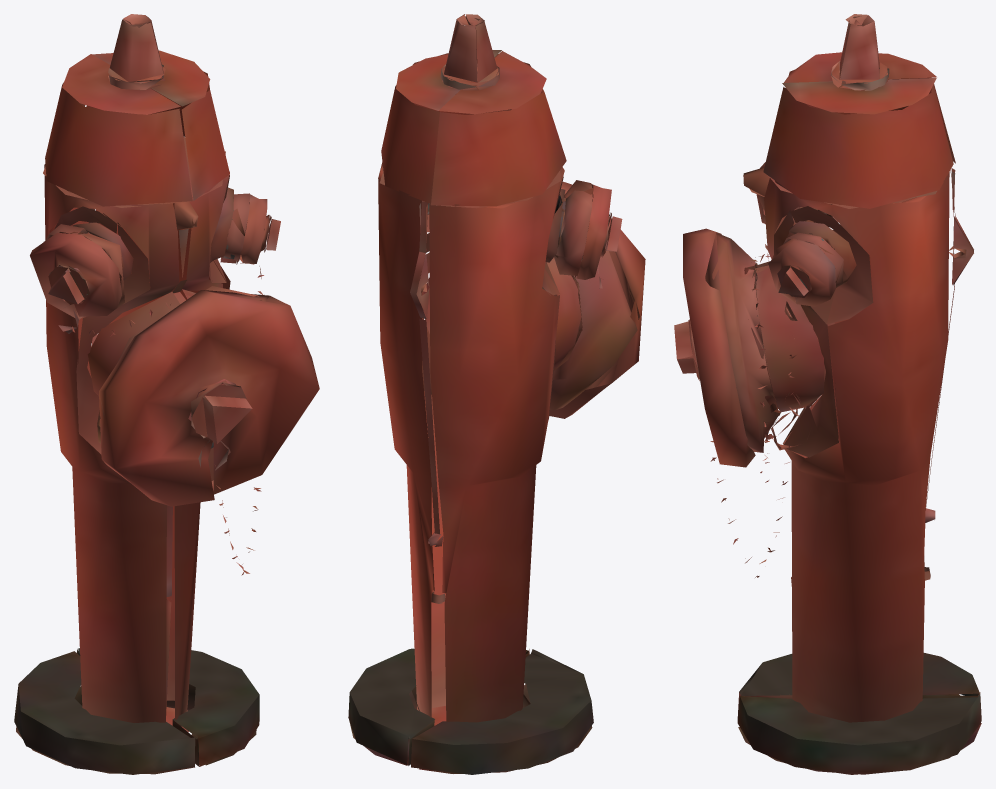
File: fire_hydrant.glb
3 renders of one model, left to right at view 1: azimuth 30°, elevation 25°; view 2: azimuth 150°, elevation 25°; view 3: azimuth 270°, elevation 25°, orthographic.
Visible parts, largest first — view 1: fire_hydrant; view 2: fire_hydrant; view 3: fire_hydrant.
Boxes of the visible parts, <box> form: fire_hydrant: <box>14,14,319,774</box>; fire_hydrant: <box>348,14,645,774</box>; fire_hydrant: <box>674,14,981,774</box>.
Size of the model in its own units: 0.2777 by 0.8004 by 0.3173.
1 material, 1 textured.
